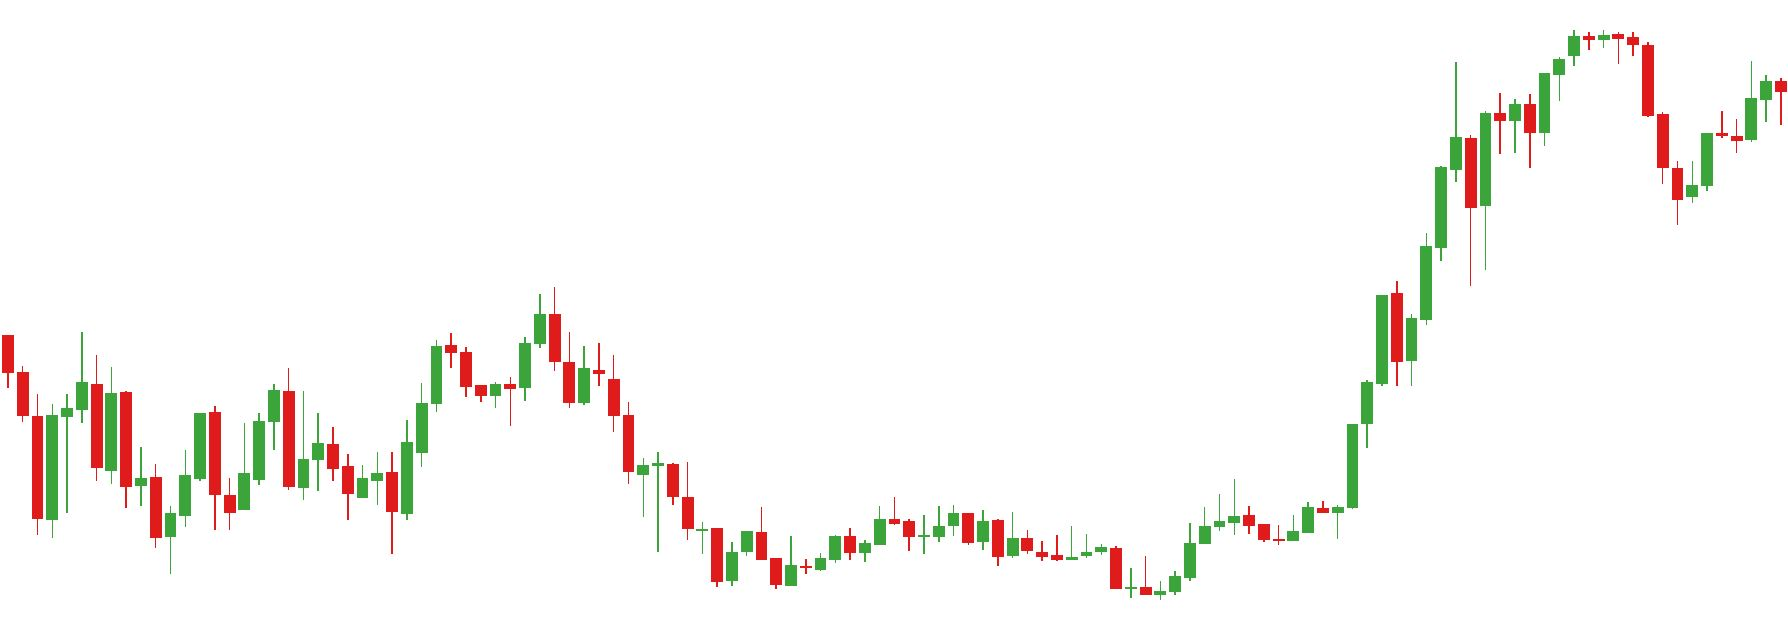sell: (430, 287, 561, 402)
